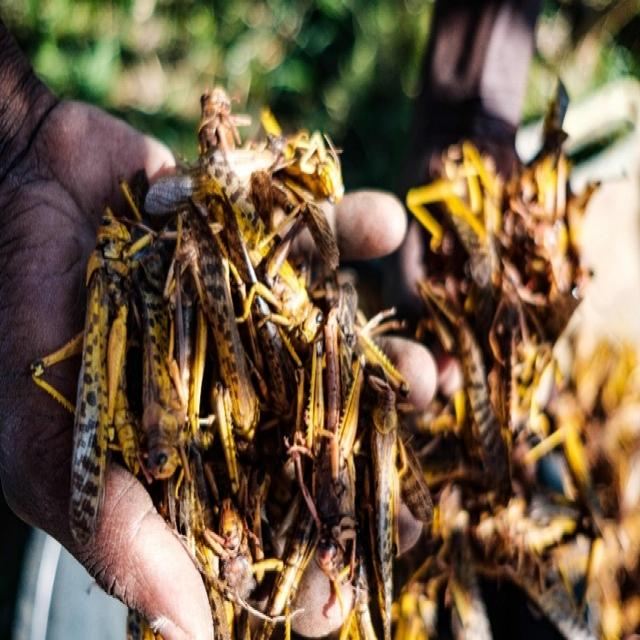ZhaMeng: (56, 197, 148, 551), (192, 227, 268, 464), (127, 222, 188, 484), (364, 379, 407, 626)
